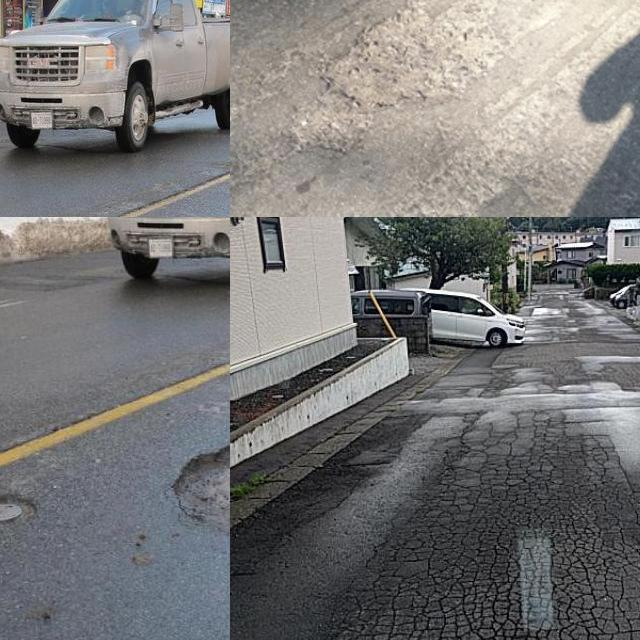Lubang: (335, 11, 508, 101), (170, 447, 230, 543), (0, 501, 23, 523)
Retak Buaya: (330, 424, 640, 640)
